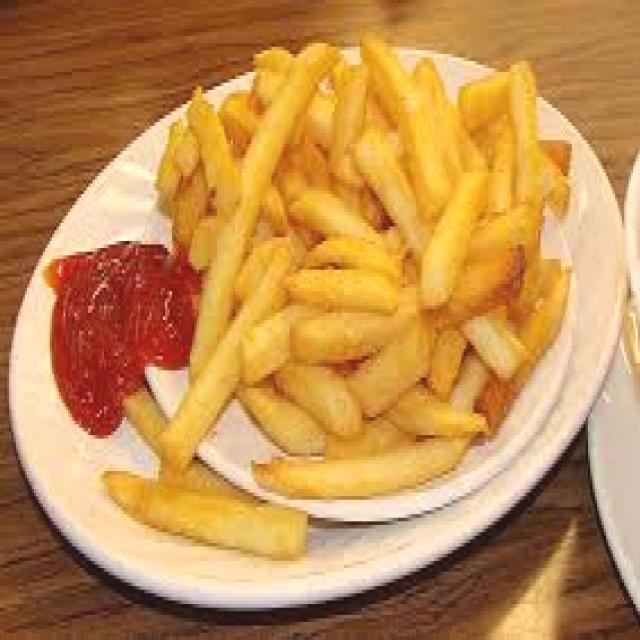kentang goreng: (93, 36, 574, 572)
